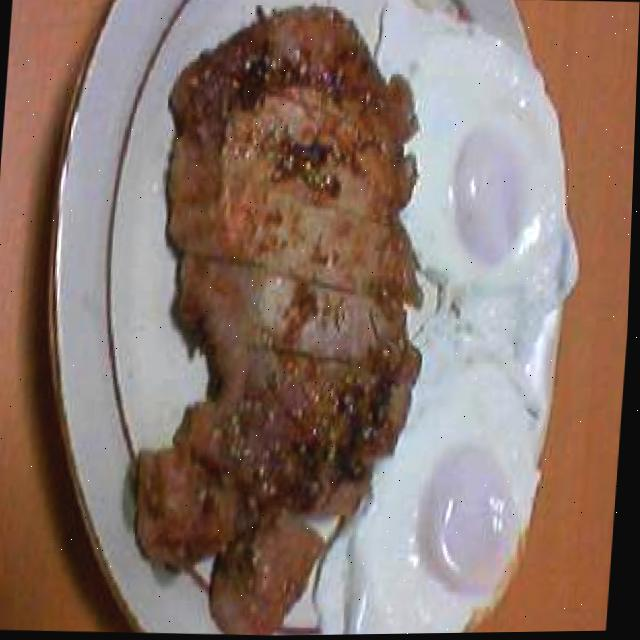猪肉菜式: (110, 0, 457, 638)
